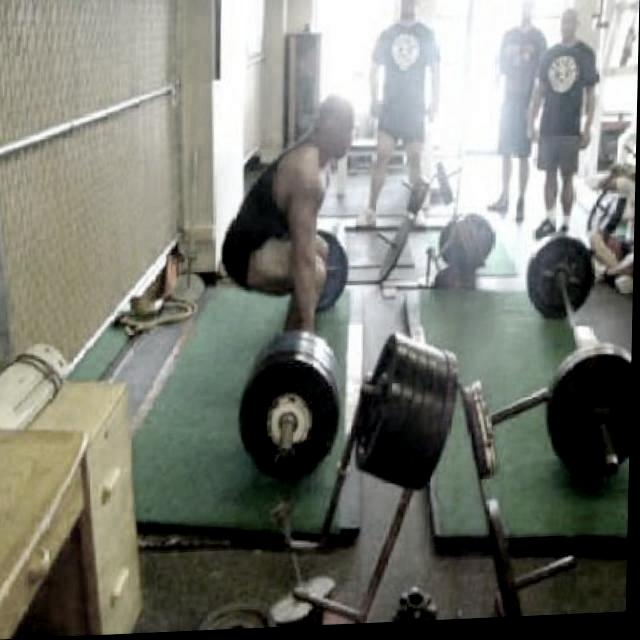barbell: (237, 352, 344, 497)
